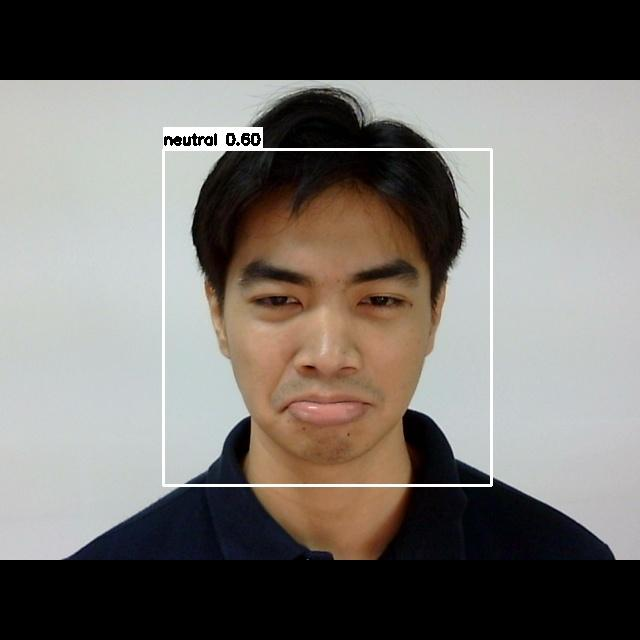Sad: (213, 228, 444, 442)
